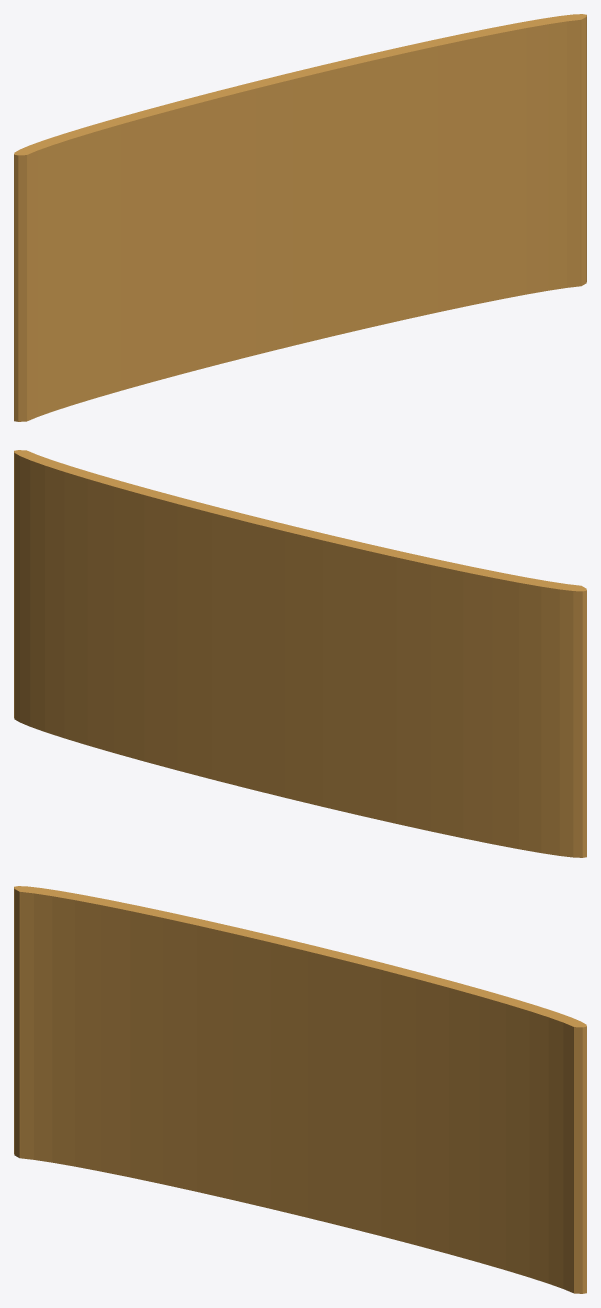
File: Монитор.glb
3 renders of one model, top to bottom at view 1: azimuth 30°, elevation 25°; view 2: azimuth 150°, elevation 25°; view 3: azimuth 330°, elevation 25°, orthographic.
Parts seen in each view (by area): view 1: Mesh_Mesh_head_geo.001_lambert2SG.001; view 2: Mesh_Mesh_head_geo.001_lambert2SG.001; view 3: Mesh_Mesh_head_geo.001_lambert2SG.001.
Part boxes in pixels (x1,y1,x2,y2): Mesh_Mesh_head_geo.001_lambert2SG.001: (14,14,586,421); Mesh_Mesh_head_geo.001_lambert2SG.001: (14,450,586,857); Mesh_Mesh_head_geo.001_lambert2SG.001: (14,886,586,1293).
Bounding box in the file's own units: 0.153 × 0.068 × 0.0085.
